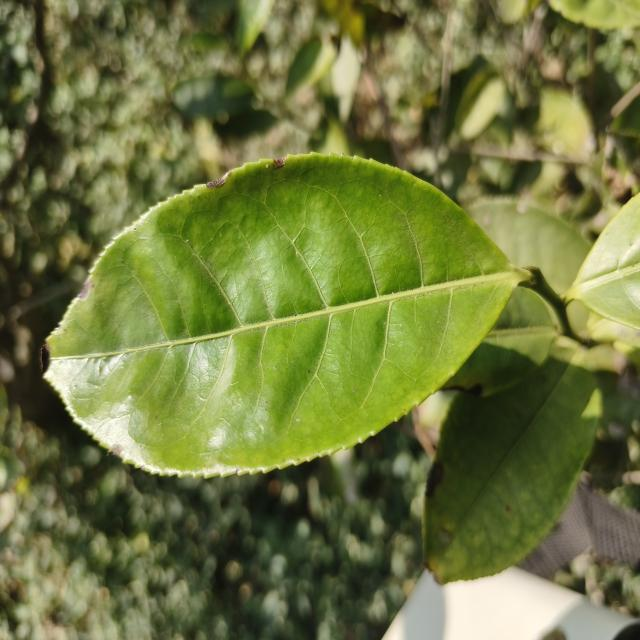Leaf: (42, 153, 527, 477), (423, 357, 601, 583), (465, 196, 590, 295), (442, 288, 556, 396), (567, 194, 640, 329), (536, 87, 595, 159), (455, 66, 508, 140), (173, 75, 253, 119), (286, 37, 336, 94), (237, 0, 275, 52), (568, 304, 587, 329)
